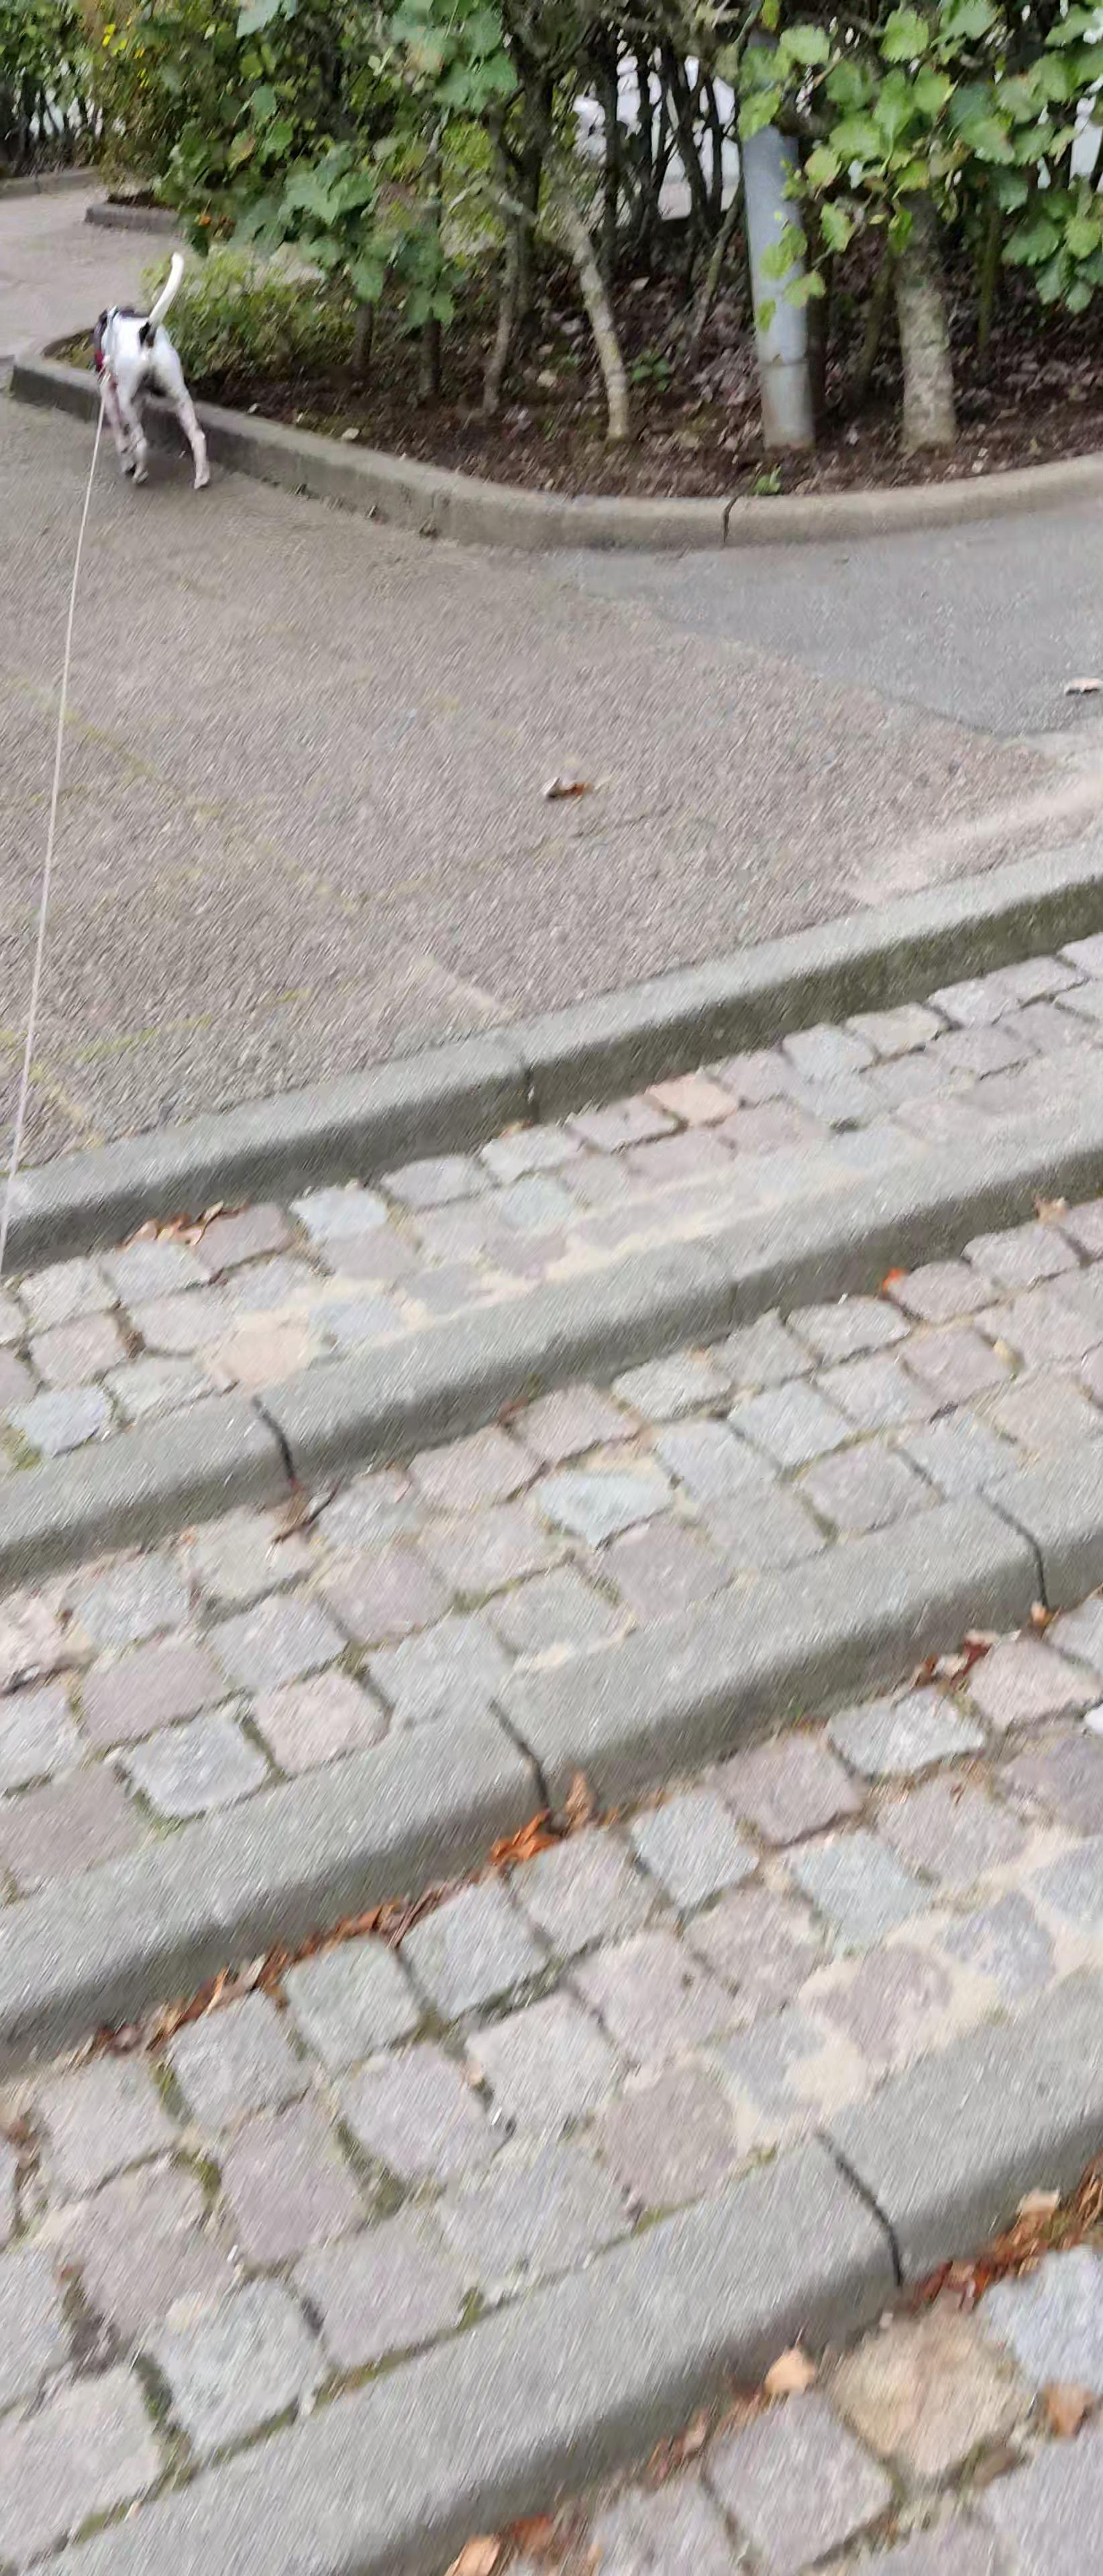Dog: (89, 238, 219, 499)
